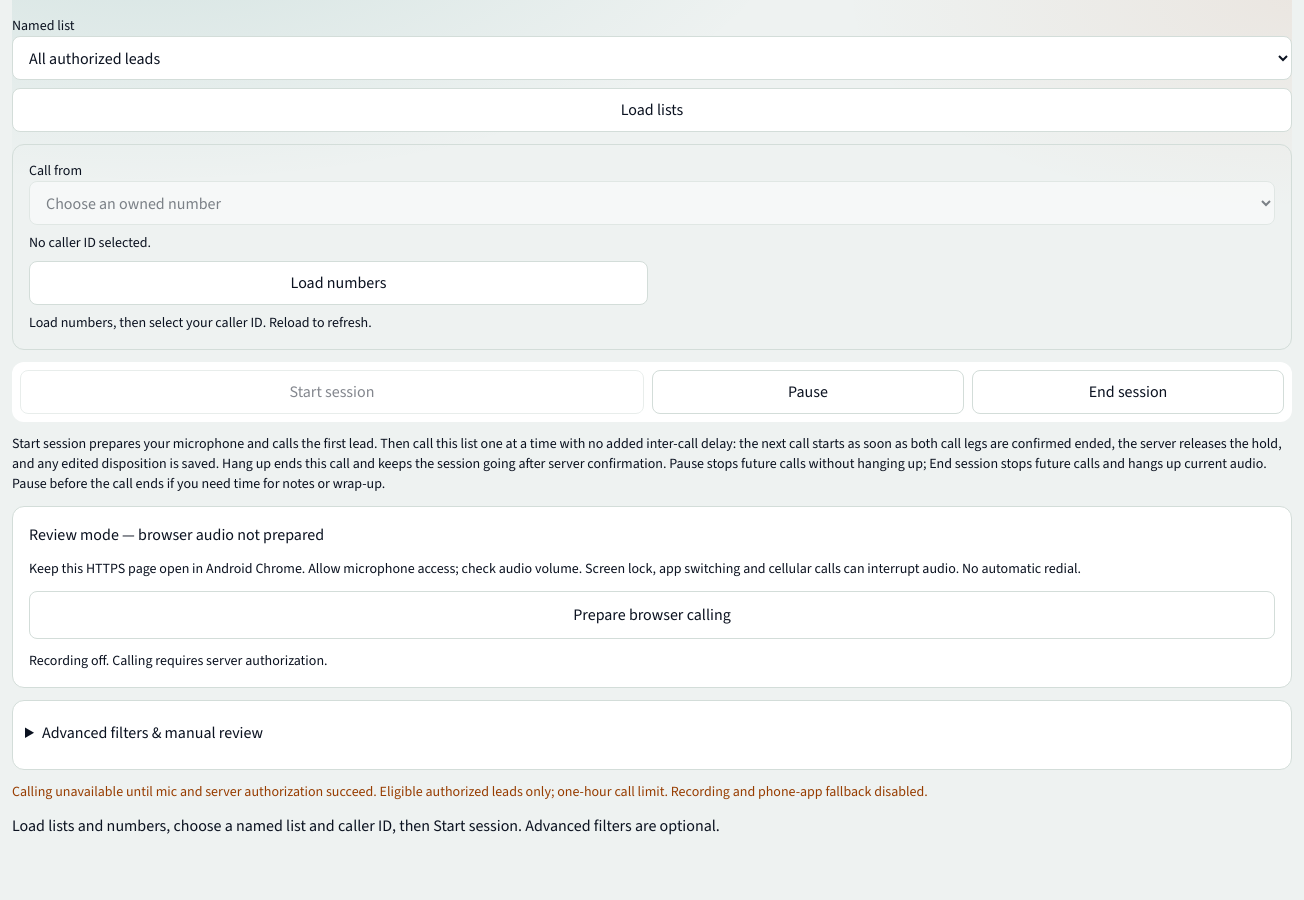
it: distinguishes an empty catalog from bounded truncation=false
Click the button "Load numbers" at (338, 283), box [29, 261, 648, 305]
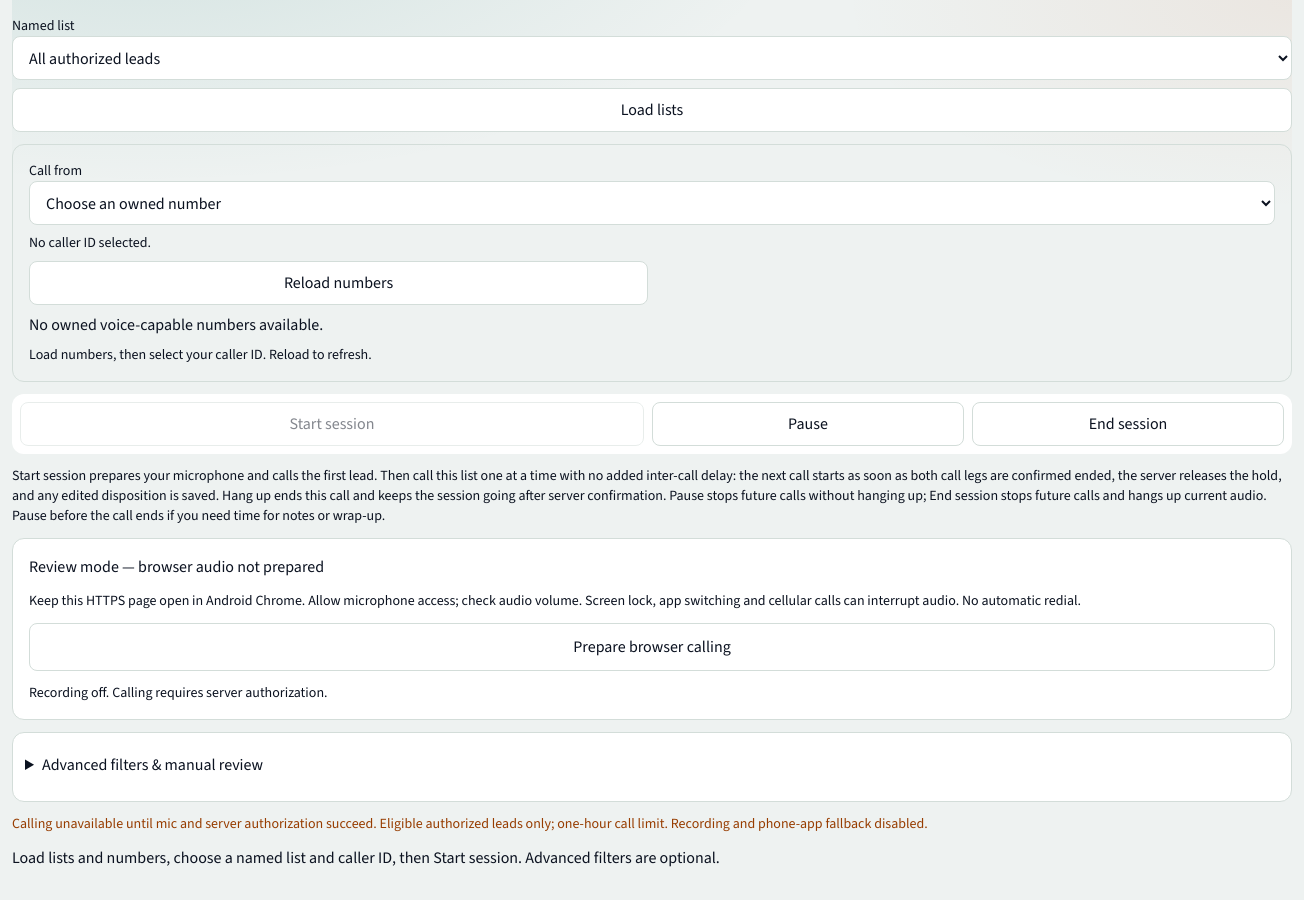
expect the text "No owned voice-capable numbers available." is shown: met, box [29, 314, 323, 335]
